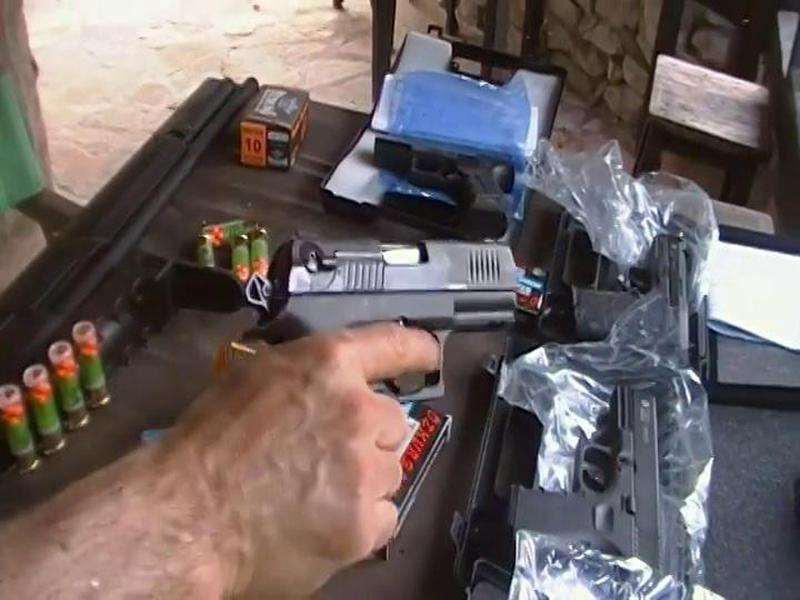Pistola: (228, 228, 547, 408)
